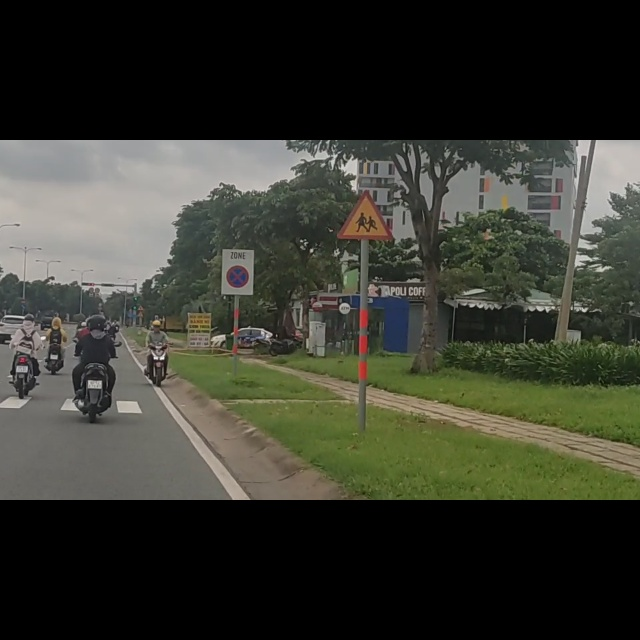bien_nguy_hiem: (337, 89, 393, 177), (227, 223, 249, 263), (21, 283, 26, 292), (21, 293, 26, 301)
